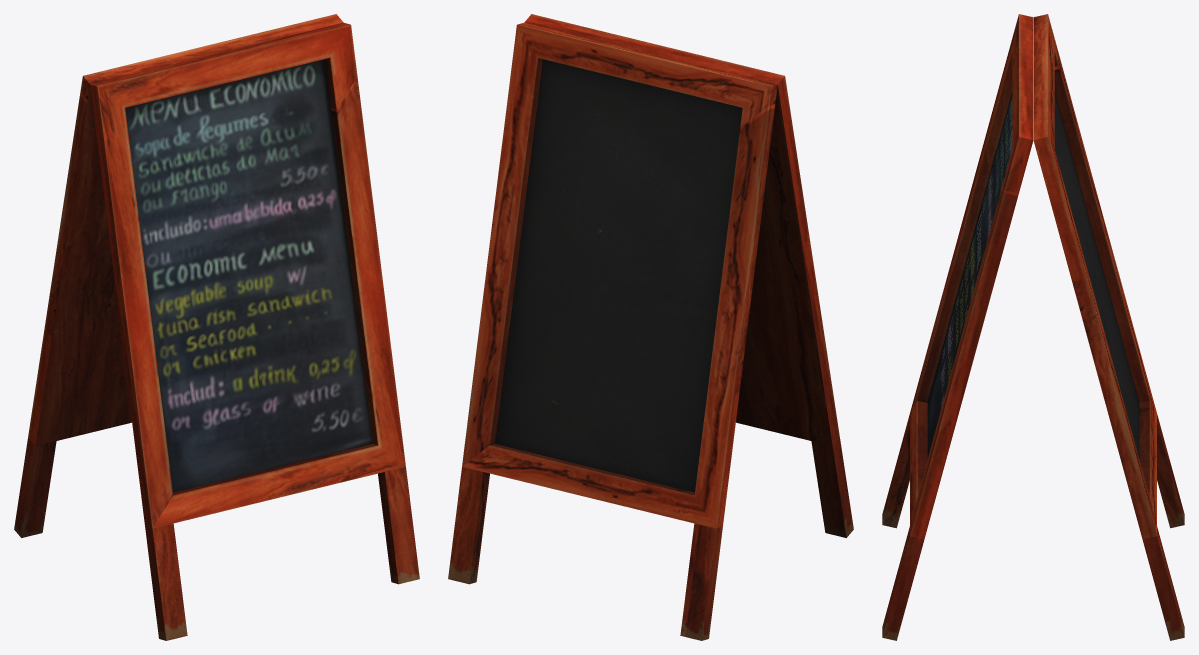
The model's file is uploads_files_690317_MenuBoard.FBX.
3 renders of one model, left to right at view 1: azimuth 30°, elevation 25°; view 2: azimuth 150°, elevation 25°; view 3: azimuth 270°, elevation 25°, orthographic.
Parts seen in each view (by area): view 1: MenuBoardPoly; view 2: MenuBoardPoly; view 3: MenuBoardPoly.
Boxes of the visible parts, x1,y1,x2,y2 form: MenuBoardPoly: [14, 14, 419, 640]; MenuBoardPoly: [448, 14, 853, 640]; MenuBoardPoly: [882, 14, 1184, 640].
Size of what is drawn, in the model's own units: 64.98 by 124 by 67.57.
1 material, 1 textured.
